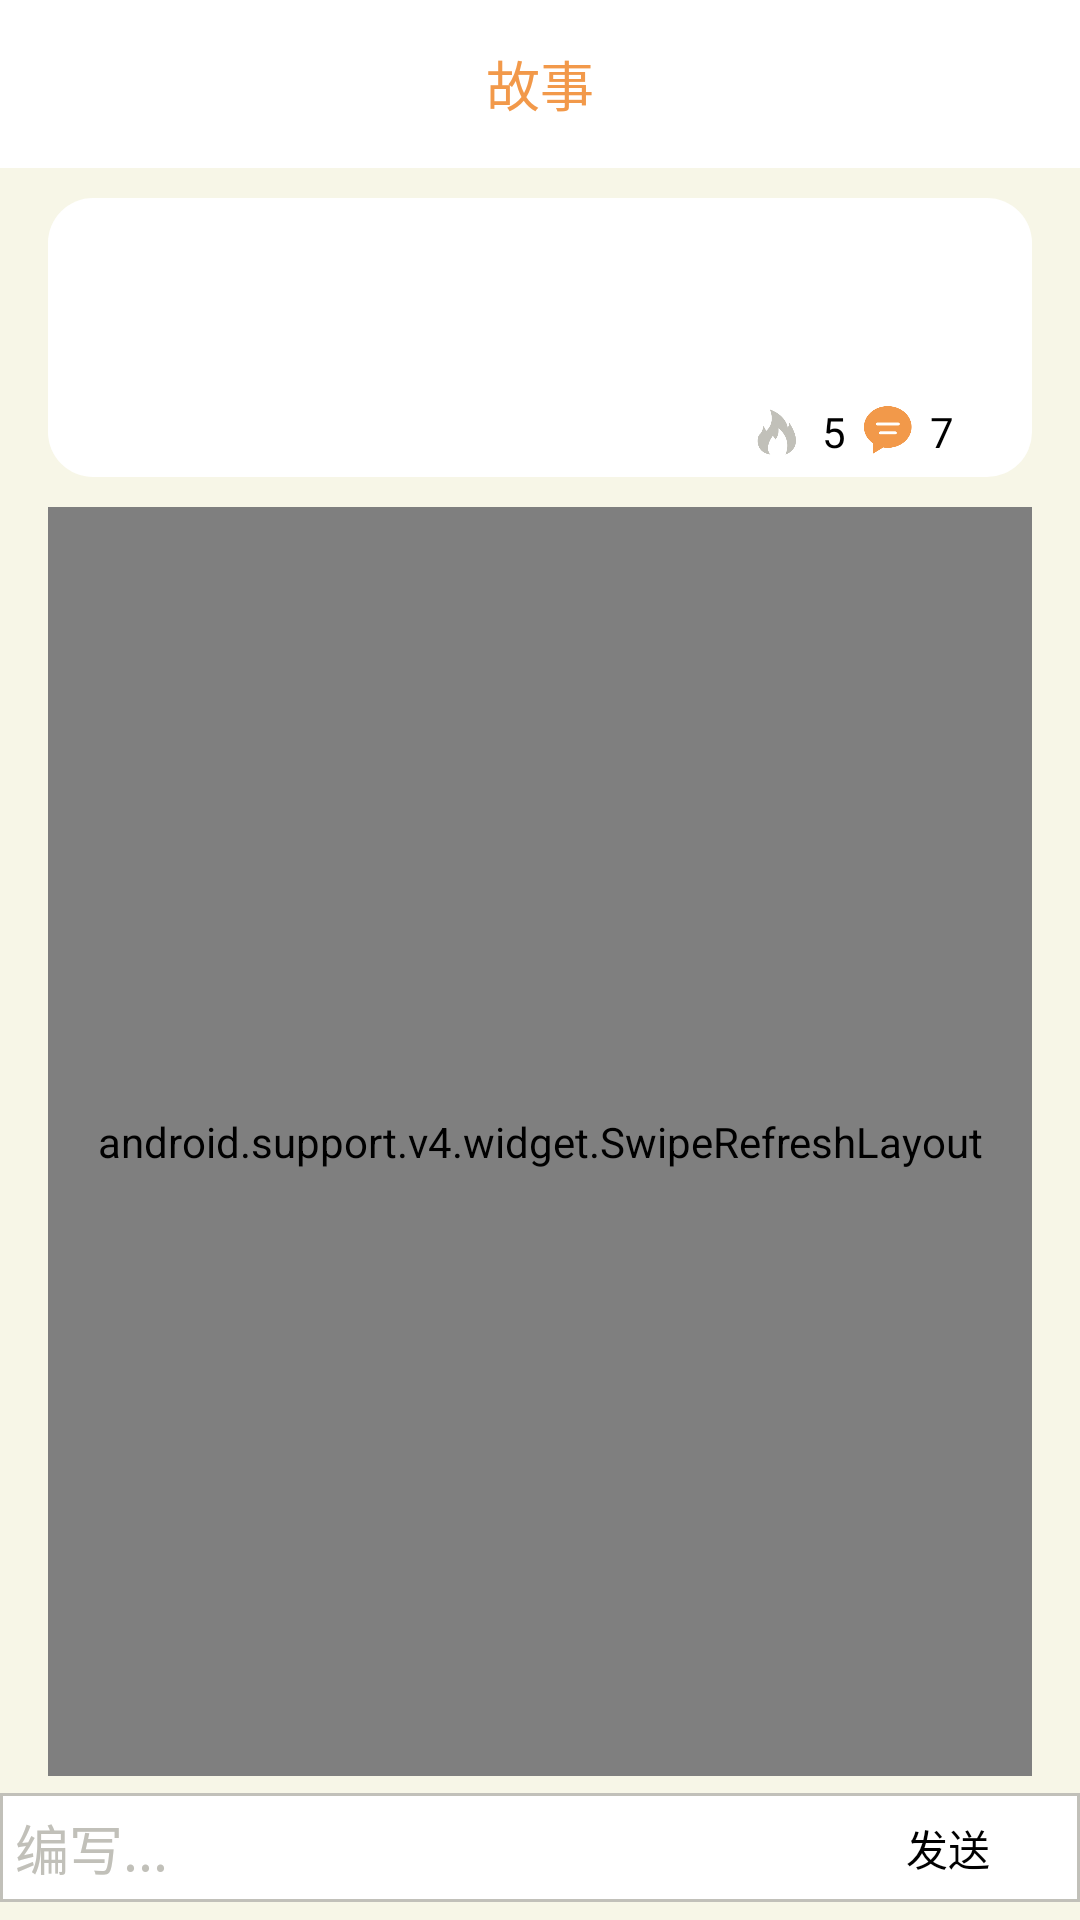

Icon bounding boxes for this 1080 x 1920 phone screenshot, format region(x1, y1, x2, y2):
hot: region(758, 410, 796, 454)
